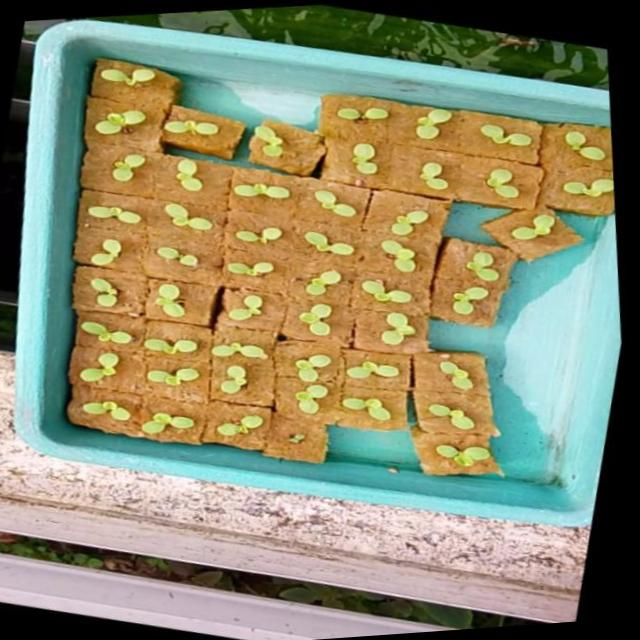Baby: (469, 214, 531, 253), (526, 131, 591, 168), (60, 151, 128, 181), (451, 127, 513, 156), (308, 360, 363, 392), (107, 248, 171, 275), (348, 243, 402, 275), (329, 278, 382, 309), (182, 292, 230, 326), (28, 279, 73, 314), (27, 322, 89, 347), (513, 169, 570, 196), (436, 250, 475, 286), (125, 203, 175, 231), (400, 450, 457, 474), (393, 408, 440, 435), (29, 356, 70, 386), (270, 233, 319, 258), (92, 419, 147, 441), (344, 316, 380, 349), (109, 285, 141, 321), (385, 111, 422, 142), (359, 209, 398, 238), (32, 406, 83, 428), (260, 306, 293, 339), (167, 346, 227, 364), (255, 358, 292, 387), (171, 421, 219, 443), (196, 226, 248, 246), (255, 387, 288, 418), (98, 341, 154, 359), (305, 408, 353, 429), (454, 171, 486, 202), (405, 365, 438, 395), (269, 273, 307, 299), (46, 205, 100, 223), (138, 159, 166, 191), (46, 240, 80, 266), (176, 370, 204, 400), (420, 297, 456, 320), (319, 144, 345, 175), (283, 192, 314, 217), (189, 263, 237, 279), (389, 164, 416, 192), (101, 375, 143, 390)
